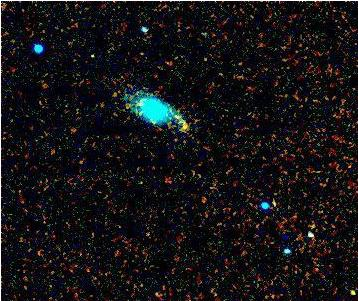star: (169, 110, 199, 140)
